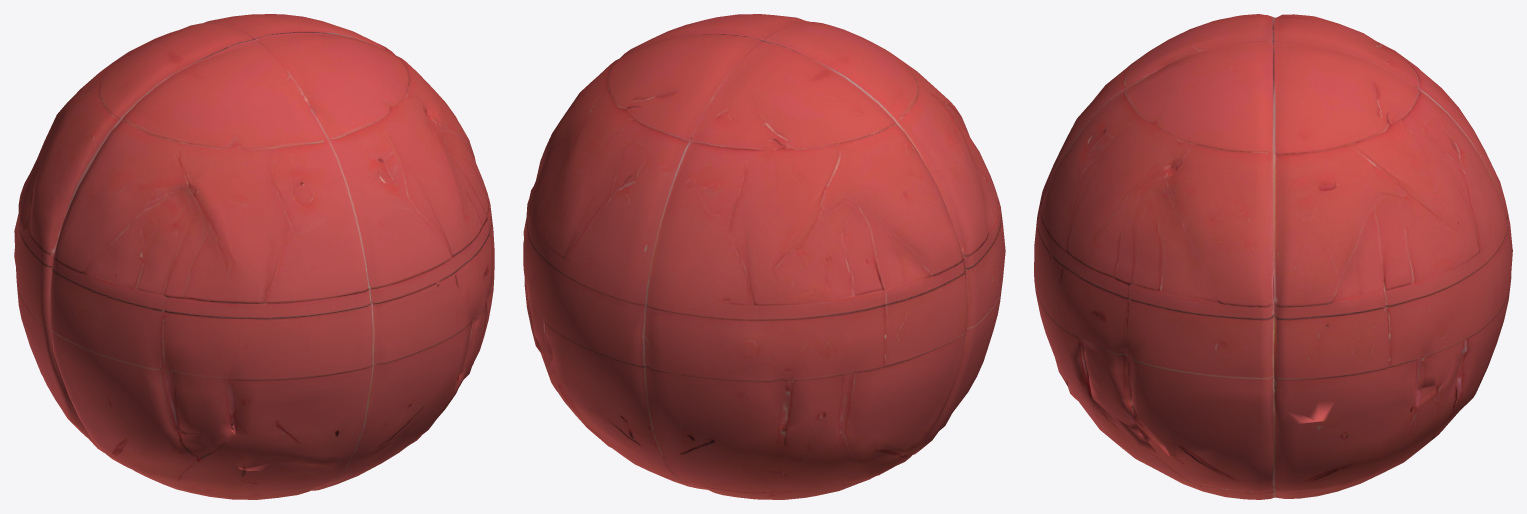
The model's file is tripo_convert_5ed2bb39-2d55-4dc6-ab10-91e345544b22.fbx.
3 renders of one model, left to right at view 1: azimuth 30°, elevation 25°; view 2: azimuth 150°, elevation 25°; view 3: azimuth 270°, elevation 25°, orthographic.
Visible parts, largest first — view 1: tripo_node_5ed2bb39; view 2: tripo_node_5ed2bb39; view 3: tripo_node_5ed2bb39.
Boxes of the visible parts, box(x1,y1,x2,y2) form: tripo_node_5ed2bb39: box(14, 14, 494, 499); tripo_node_5ed2bb39: box(523, 14, 1005, 499); tripo_node_5ed2bb39: box(1034, 14, 1512, 499).
Bounding box in the file's own units: 99.33 × 99.83 × 99.59.
1 material, 1 textured.
